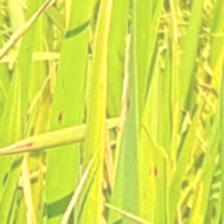2 BacterialBlight: (94, 2, 107, 201)
